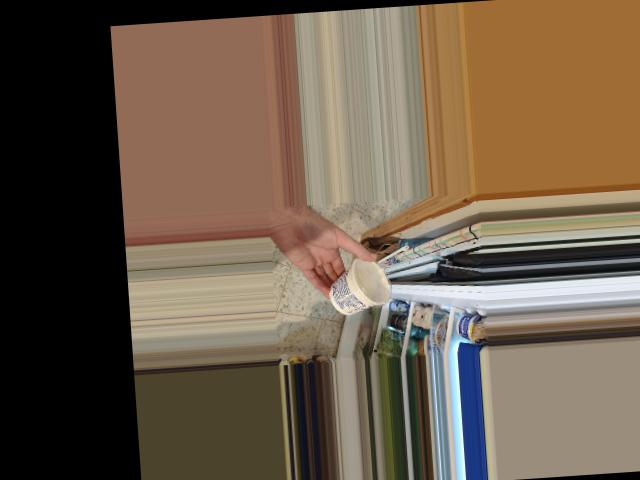cotage: (329, 262, 391, 313)
